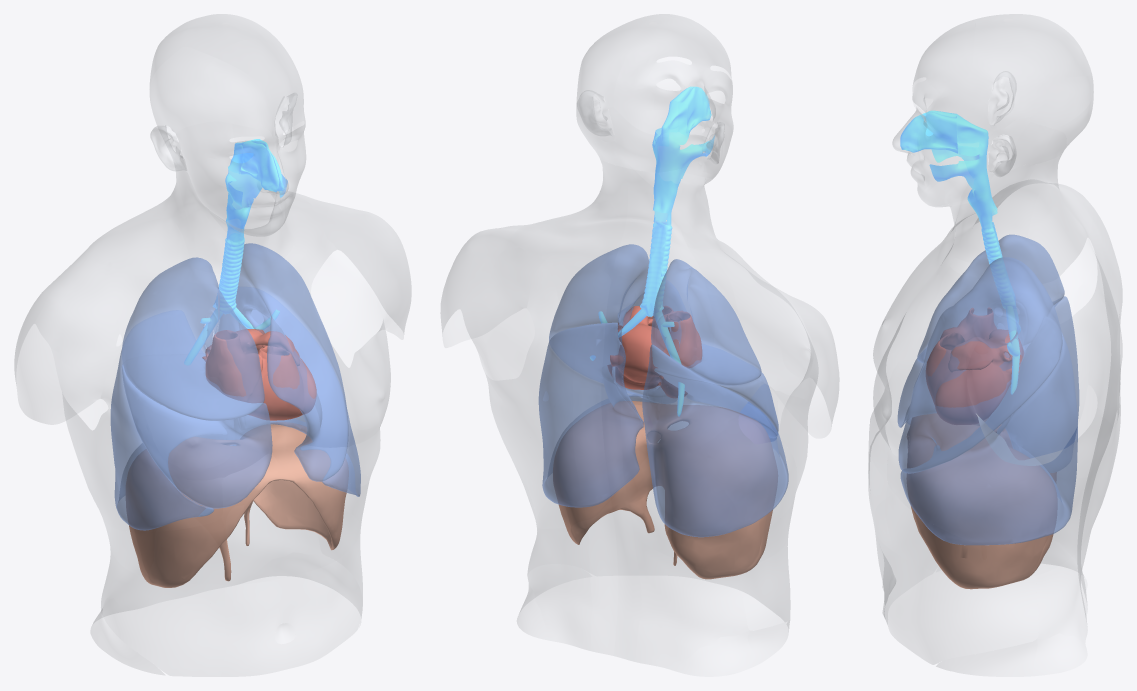
The model's file is atmen-anatomy.glb.
3 renders of one model, left to right at view 1: azimuth 30°, elevation 25°; view 2: azimuth 150°, elevation 25°; view 3: azimuth 270°, elevation 25°, orthographic.
Parts seen in each view (by area): view 1: Body_Shell, Abdomen, Lung_Right, Head, Diaphragm, Lung_Left, Heart, Nasal_Cavity, Trachea, Bronchi; view 2: Body_Shell, Lung_Right, Diaphragm, Lung_Left, Head, Abdomen, Heart, Nasal_Cavity, Trachea, Bronchi; view 3: Body_Shell, Lung_Left, Head, Abdomen, Diaphragm, Heart, Nasal_Cavity, Lung_Right, Trachea, Bronchi.
Part boxes in pixels (box(x1,y1,x2,y2)): Body_Shell: box(14, 136, 411, 674); Abdomen: box(101, 446, 368, 676); Lung_Right: box(110, 257, 272, 530); Head: box(150, 14, 305, 235); Diaphragm: box(126, 422, 348, 587); Lung_Left: box(235, 243, 360, 496); Heart: box(202, 329, 316, 420); Nasal_Cavity: box(225, 139, 287, 241); Trachea: box(213, 237, 244, 314); Bronchi: box(184, 307, 279, 365); Body_Shell: box(440, 158, 839, 676); Lung_Right: box(642, 259, 788, 537); Diaphragm: box(553, 401, 777, 579); Lung_Left: box(538, 244, 659, 507); Head: box(576, 14, 733, 179); Abdomen: box(528, 386, 794, 629); Heart: box(607, 306, 702, 397); Nasal_Cavity: box(652, 86, 714, 225); Trachea: box(640, 220, 672, 316); Bronchi: box(590, 309, 684, 416); Body_Shell: box(873, 134, 1122, 676); Lung_Left: box(898, 257, 1077, 545); Head: box(892, 14, 1093, 205); Abdomen: box(868, 389, 1041, 664); Diaphragm: box(906, 413, 1057, 589); Heart: box(926, 308, 1023, 424); Nasal_Cavity: box(900, 110, 997, 228); Lung_Right: box(897, 234, 1079, 448); Trachea: box(981, 222, 1015, 308); Bronchi: box(1006, 306, 1020, 394).
Size of the model in its own units: 0.4911 by 0.7341 by 0.2827.
